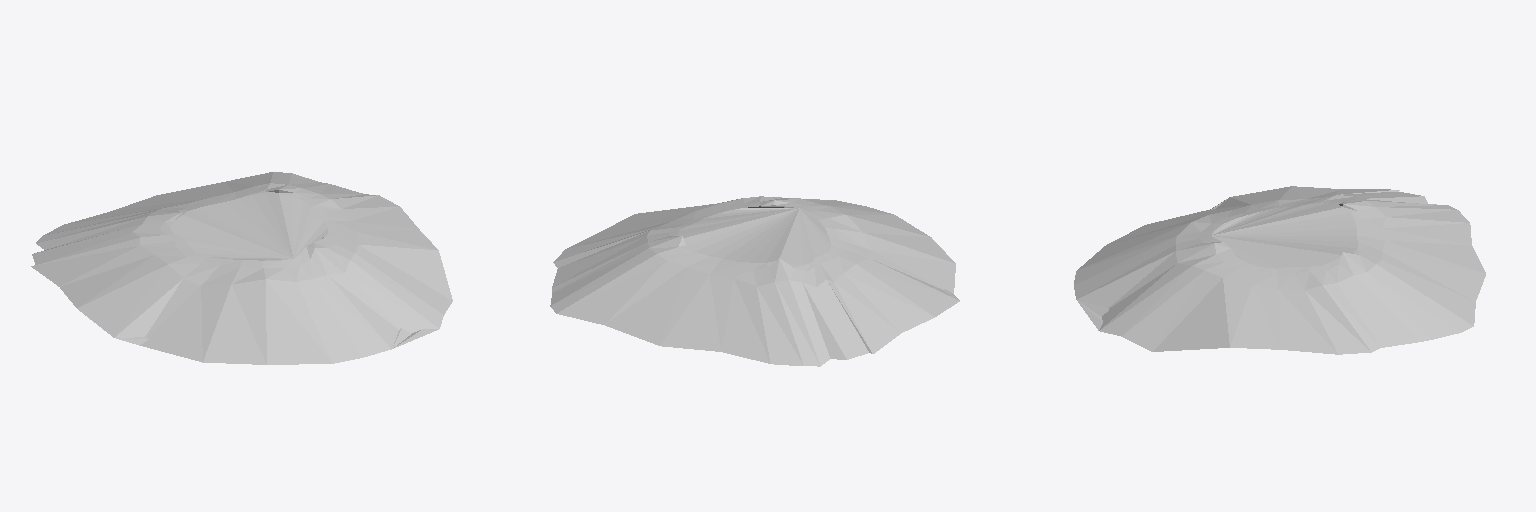
The model's file is dirtHole.obj.
3 renders of one model, left to right at view 1: azimuth 30°, elevation 25°; view 2: azimuth 150°, elevation 25°; view 3: azimuth 270°, elevation 25°, orthographic.
Parts seen in each view (by area): view 1: Cylinder_Cylinder.001; view 2: Cylinder_Cylinder.001; view 3: Cylinder_Cylinder.001.
Boxes of the visible parts, box(x1,y1,x2,y2) form: Cylinder_Cylinder.001: box(31, 172, 452, 364); Cylinder_Cylinder.001: box(550, 196, 959, 366); Cylinder_Cylinder.001: box(1074, 186, 1485, 354).
Size of the model in its own units: 2.26 by 0.3879 by 2.34.